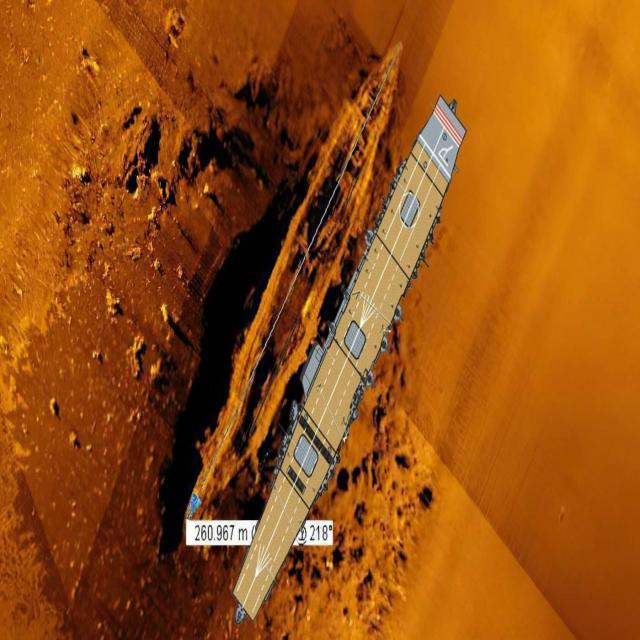shipwreck: (178, 38, 406, 520)
